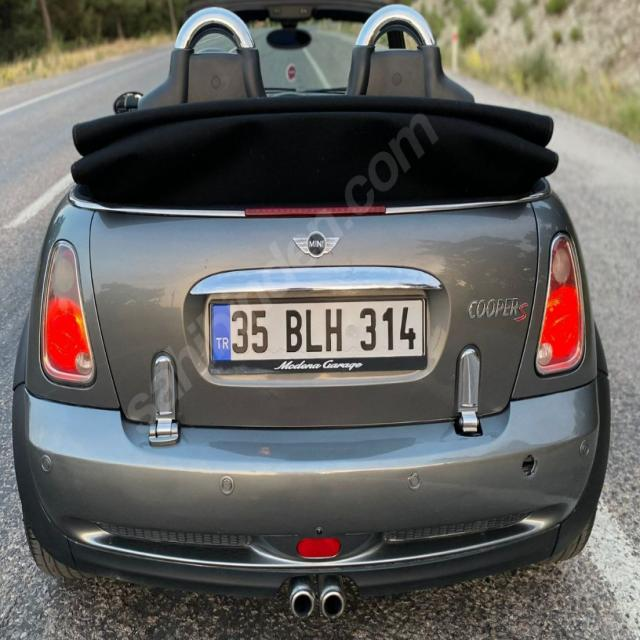mini: (292, 227, 344, 261)
